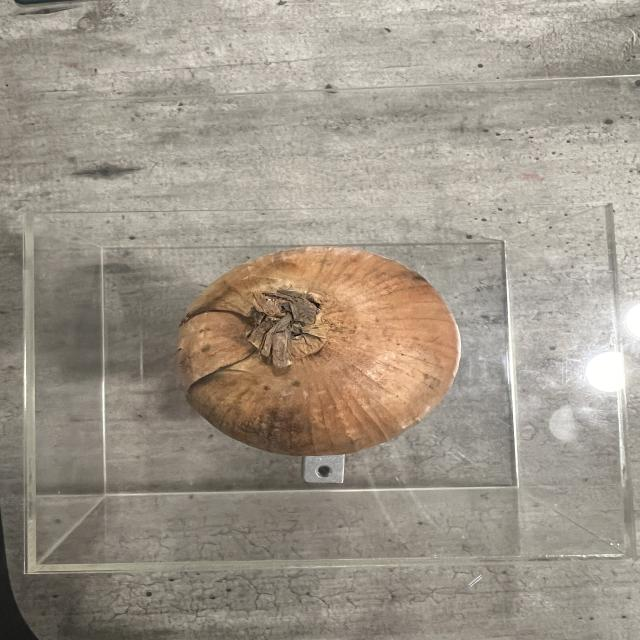onion: (178, 248, 458, 451)
